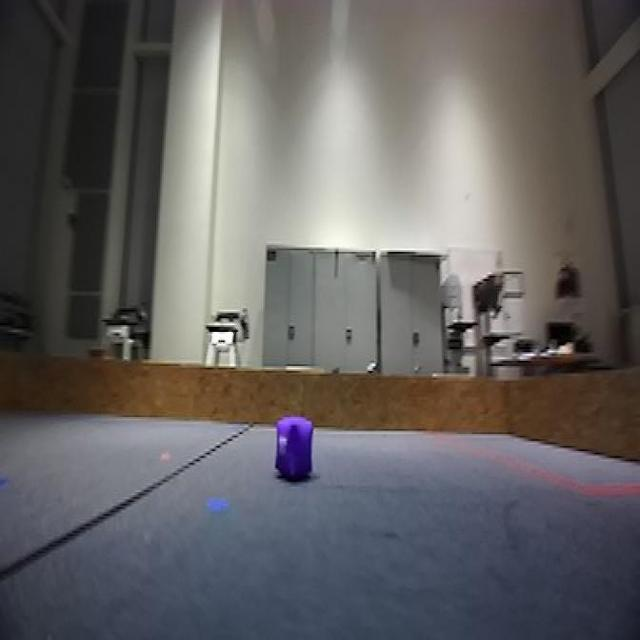frc_cube: (275, 419, 315, 487)
